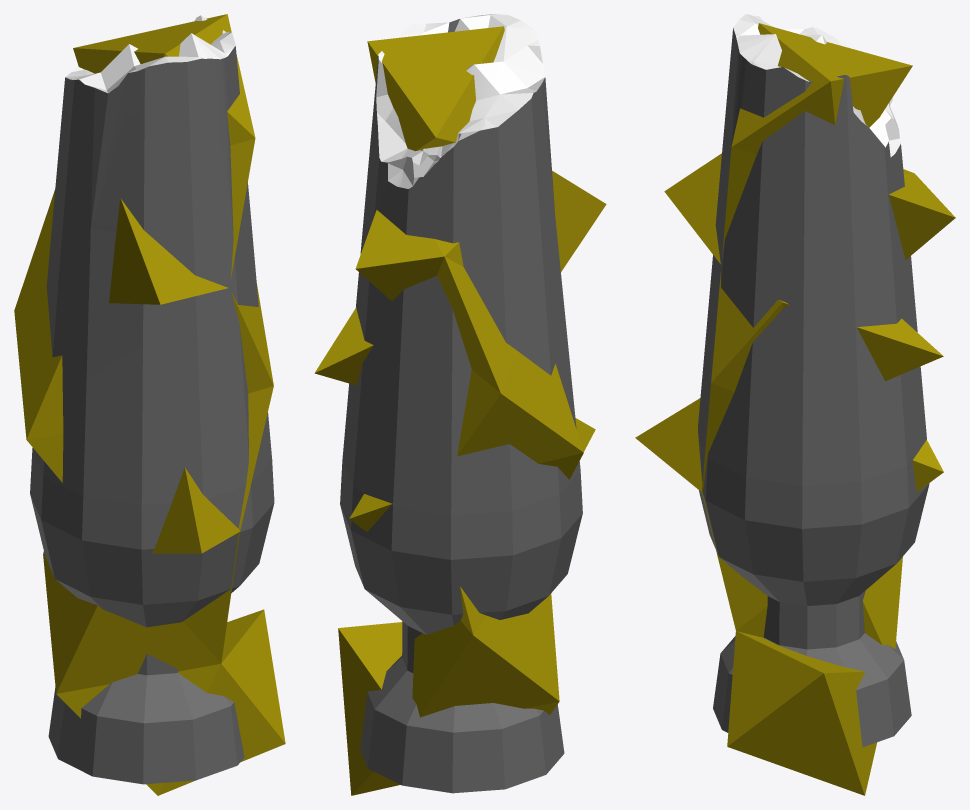
File: SMT_Pillar_Range_05.fbx
3 views of the same model, side by side, from view 1: azimuth 30°, elevation 25°; view 2: azimuth 150°, elevation 25°; view 3: azimuth 270°, elevation 25° (orthographic). The views are drawn at different scales.
Parts seen in each view (by area): view 1: SM_Pillar_Range_05, chunk1_25, chunk6_2, chunk18_14, chunk20_16, chunk27_23, chunk12_7, chunk25_21, chunk14_10, chunk2_26, chunk17_13, chunk11_6 (+2 smaller); view 2: SM_Pillar_Range_05, chunk27_23, chunk0_24, chunk19_15, chunk14_10, chunk13_9, chunk1_25, chunk5_1, chunk20_16, chunk18_14, chunk6_2, chunk22_18 (+3 smaller); view 3: SM_Pillar_Range_05, chunk5_1, chunk6_2, chunk27_23, chunk26_22, chunk13_9, chunk12_7, chunk22_18, chunk18_14, chunk0_24, chunk25_21, chunk2_26 (+4 smaller).
Boxes of the visible parts, box(x1,y1,x2,y2) form: SM_Pillar_Range_05: box(30, 15, 274, 784); chunk1_25: box(43, 554, 220, 693); chunk6_2: box(158, 609, 285, 795); chunk18_14: box(109, 198, 227, 304); chunk20_16: box(14, 306, 63, 439); chunk27_23: box(73, 14, 255, 145); chunk12_7: box(152, 467, 239, 553); chunk25_21: box(231, 283, 273, 393); chunk14_10: box(14, 189, 55, 310); chunk2_26: box(183, 532, 239, 663); chunk17_13: box(230, 138, 255, 279); chunk11_6: box(238, 386, 273, 530); SM_Pillar_Range_05: box(340, 14, 582, 793); chunk27_23: box(367, 26, 504, 142); chunk0_24: box(412, 620, 559, 717); chunk19_15: box(457, 369, 583, 463); chunk14_10: box(437, 256, 518, 393); chunk13_9: box(355, 210, 444, 301); chunk1_25: box(473, 593, 559, 701); chunk5_1: box(338, 628, 400, 795); chunk20_16: box(501, 352, 583, 452); chunk18_14: box(552, 170, 606, 271); chunk6_2: box(338, 622, 402, 689); chunk22_18: box(314, 307, 373, 385); SM_Pillar_Range_05: box(698, 14, 929, 747); chunk5_1: box(727, 671, 876, 795); chunk6_2: box(727, 631, 864, 746); chunk27_23: box(731, 23, 912, 146); chunk26_22: box(731, 65, 912, 154); chunk13_9: box(889, 173, 955, 259); chunk12_7: box(635, 398, 702, 491); chunk22_18: box(783, 302, 943, 381); chunk18_14: box(664, 153, 721, 264); chunk0_24: box(736, 557, 902, 648); chunk25_21: box(711, 272, 784, 382); chunk2_26: box(702, 492, 767, 630).
Bounding box in the file's own units: 91.44 × 275 × 109.
